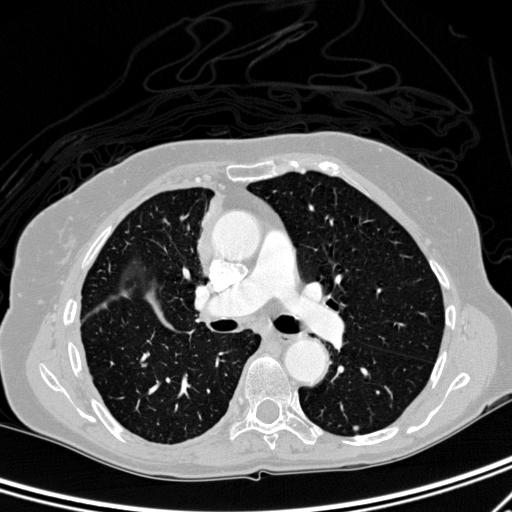nodule: (350, 423, 361, 434)
